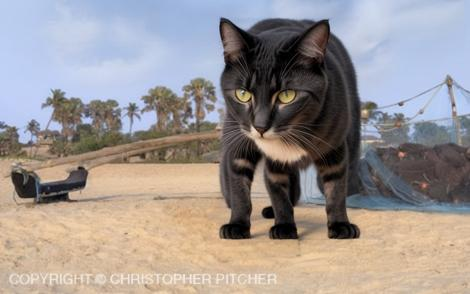cat: (219, 18, 360, 238)
